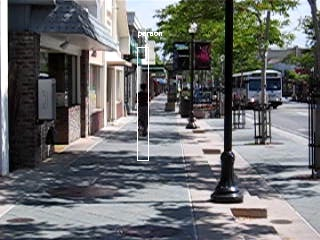person: (134, 82, 153, 139), (133, 82, 152, 139), (135, 82, 154, 139), (134, 81, 153, 138), (134, 83, 153, 140)
target_negative: (46, 46, 276, 121), (139, 164, 256, 213), (92, 134, 197, 172), (244, 71, 277, 175), (82, 224, 171, 239), (293, 207, 300, 224)
